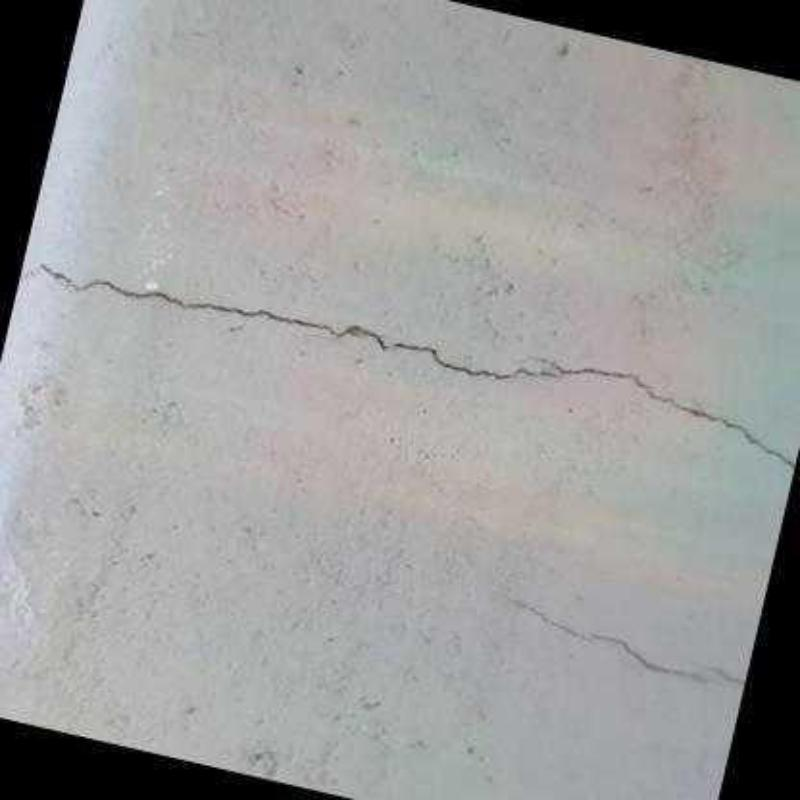pothole: (17, 260, 795, 467), (523, 604, 746, 688)
